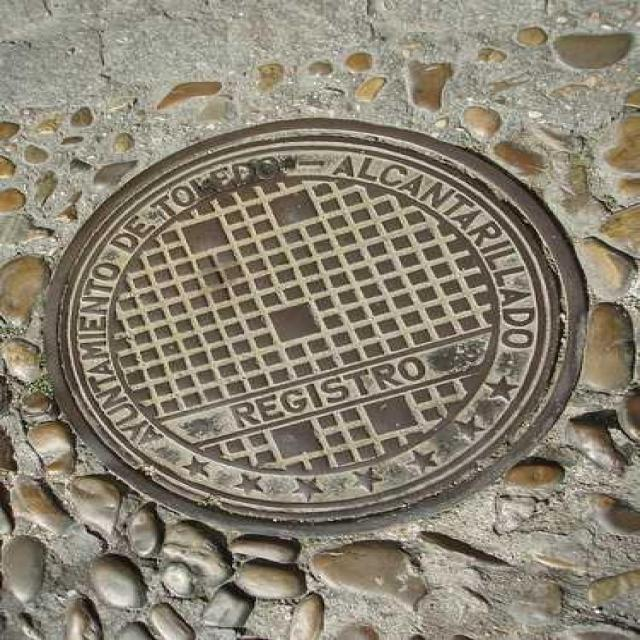manhole: (47, 119, 585, 528)
